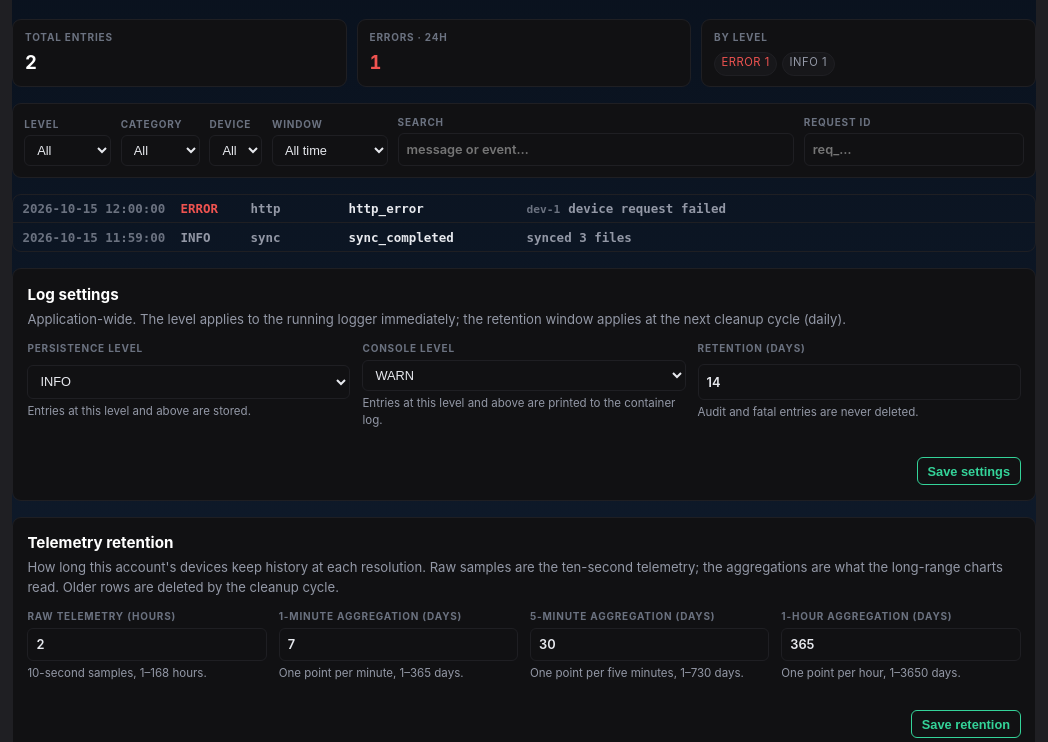
Test: Application settings screen › surfaces a failed retention save instead of pretending it stuck
(page scrolled)
Expected: the number field labelled "Raw telemetry (hours)" is shown, [27,628,267,661]
Click the button "Save retention" at (966, 724), box [911,710,1021,738]
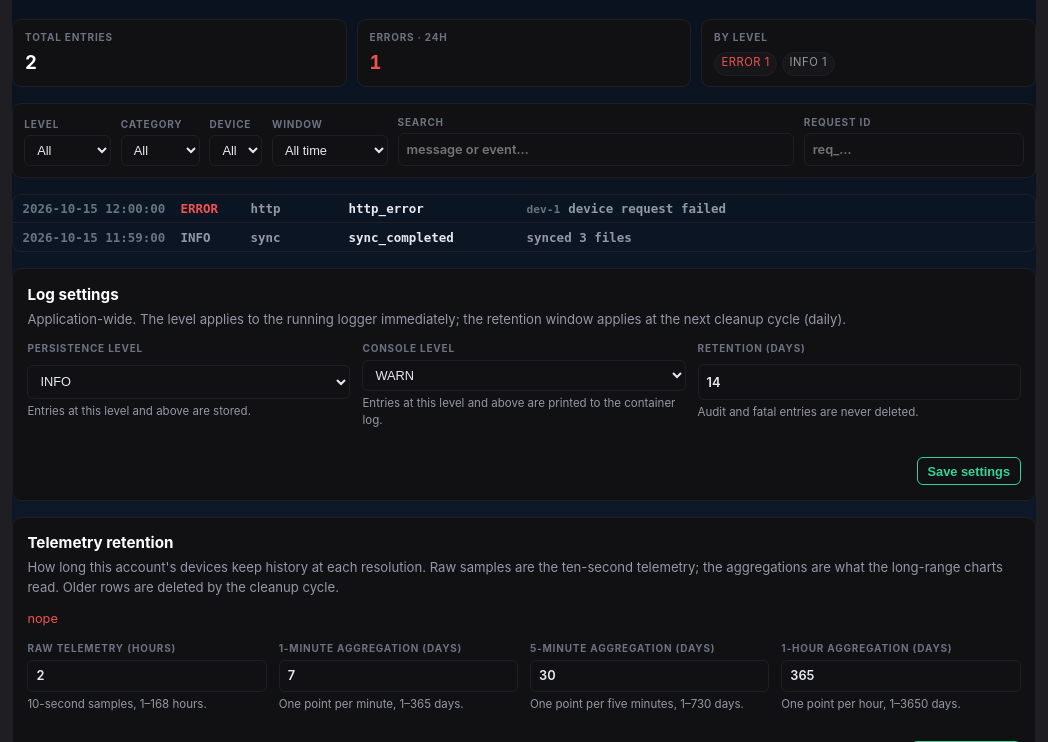
Result: the message reads "nope" at [27,611,58,626]
